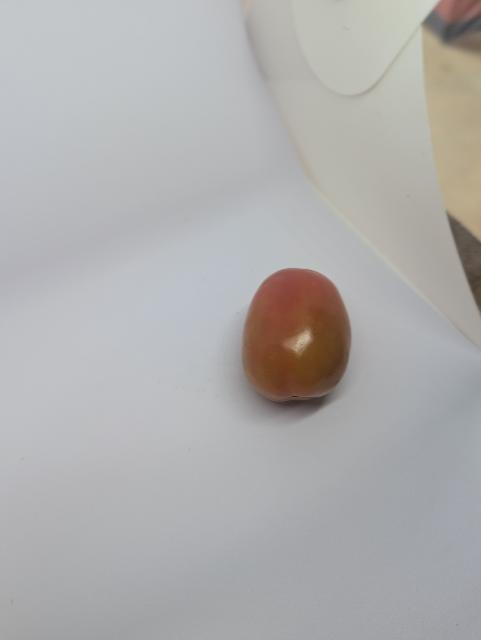red: (234, 263, 354, 408)
